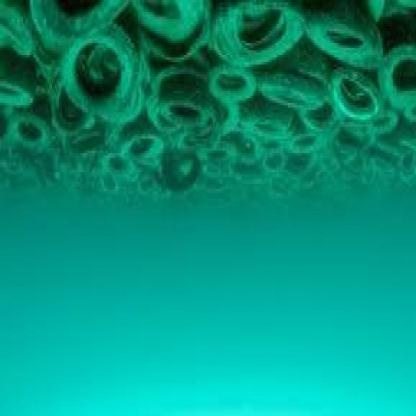tire: (50, 10, 137, 132), (318, 2, 395, 79), (321, 53, 384, 136), (256, 62, 327, 134), (213, 3, 299, 62), (151, 79, 213, 153), (210, 50, 251, 100)
